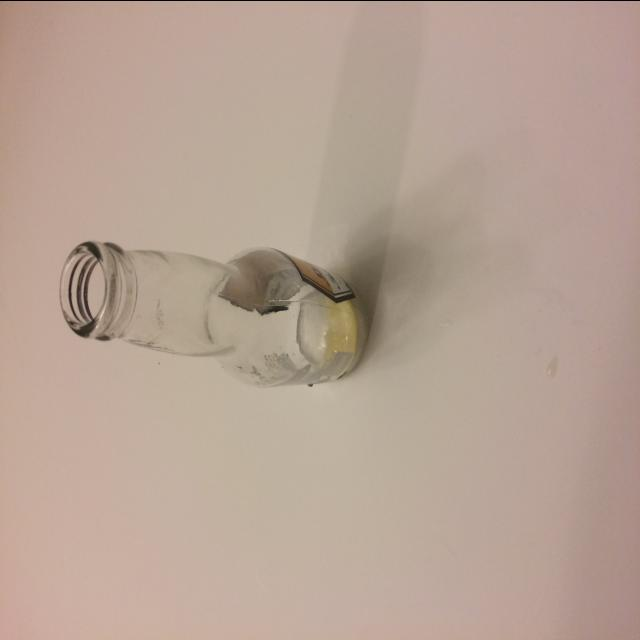glass: (46, 192, 384, 436)
